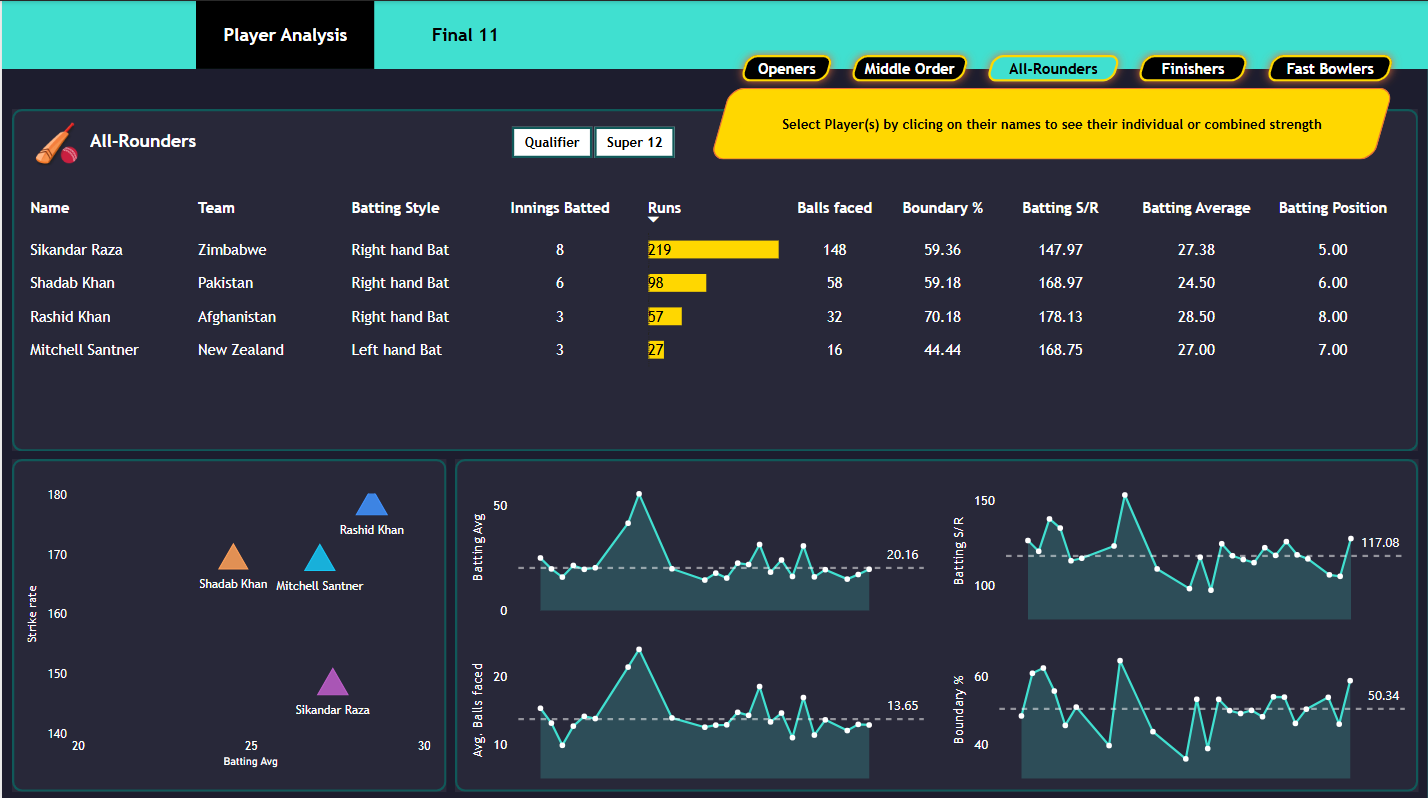

This screenshot's page, from the dashboard's own definition file:
{"tool":"powerbi","page":{"name":"All-Rounders/Lower Order","canvas":[1280,720],"ordinal":2},"visuals":[{"type":"shape","box":[0,61.3,1280,658.5],"z":0},{"type":"shape","box":[8.8,97.3,1262.5,307.4],"z":1000},{"type":"shape","box":[8.8,411.4,390,298.6],"z":2000},{"type":"shape","box":[635.4,78.3,613.7,64.2],"z":3000},{"type":"tableEx","fields":{"Values":["Players Data.name","Players Data.team","Players Data.battingStyle","Key_Measures.Total Innings Batted","Key_Measures.Total Runs","Key_Measures.total balls faced","Key_Measures.Boundary %","Key_Measures.Strike rate","Key_Measures.Batting Avg","Key_Measures.Batting Position"]},"box":[15.6,166.3,1248.9,234.4],"z":4000},{"type":"scatterChart","title":"Players by Batting Avg & Strike rate","fields":{"Category":["Players Data.name"],"X":["Key_Measures.Batting Avg"],"Y":["Key_Measures.Strike rate"],"Size":["Key_Measures.Batting Avg"]},"box":[17.5,428.9,371.6,263.6],"z":5000},{"type":"slicer","fields":{"Values":["Match Data.stage"]},"box":[431.9,106,196.5,37],"z":6000},{"type":"shape","box":[78.8,104.1,176,42.8],"z":7000},{"type":"card","fields":{"Values":["Key_Measures.Batting Avg"]},"box":[820.9,78.8,96.3,64.2],"z":8000},{"type":"card","fields":{"Values":["Key_Measures.Strike rate"]},"box":[917.2,78.8,112.8,64.2],"z":9000},{"type":"card","fields":{"Values":["Key_Measures.Boundary %"]},"box":[1130.2,78.8,93.4,64.2],"z":10000},{"type":"card","fields":{"Values":["Key_Measures.Avg. Balls faced"]},"box":[1030,78.8,100.2,64.2],"z":11000},{"type":"shape","box":[653.6,96.3,163.4,29.2],"z":12000},{"type":"shape","box":[406.6,411.4,864.7,298.6],"z":13000},{"type":"actionButton","box":[654.6,40.8,100.2,39.9],"z":14000},{"type":"actionButton","box":[753.3,40.8,123.5,39.9],"z":15000},{"type":"actionButton","box":[1011.1,40.8,116.7,39.9],"z":16000},{"type":"actionButton","box":[875.4,40.8,137.1,39.9],"z":17000},{"type":"actionButton","box":[1126.3,40.8,131.3,39.9],"z":18000},{"type":"areaChart","title":"Daily Batting Average","fields":{"Y":["Key_Measures.Batting Avg"],"Category":["Match Data.matchDate.Variation.Date Hierarchy.Day"]},"box":[416.3,419.2,416.3,141],"z":19000},{"type":"areaChart","title":"Batting Strike Rate","fields":{"Y":["Key_Measures.Strike rate"],"Category":["Match Data.matchDate.Variation.Date Hierarchy.Day"]},"box":[848.1,419.2,416.3,141],"z":20000},{"type":"areaChart","title":"Boundary %","fields":{"Y":["Key_Measures.Boundary %"],"Category":["Match Data.matchDate.Variation.Date Hierarchy.Day"]},"box":[848.1,562.2,416.3,141],"z":21000},{"type":"areaChart","title":"Average Balls Faced","fields":{"Y":["Key_Measures.Avg. Balls faced"],"Category":["Match Data.matchDate.Variation.Date Hierarchy.Day"]},"box":[416.3,562.2,416.3,141],"z":22000},{"type":"image","box":[18.5,100.2,53.5,55.4],"z":23000},{"type":"actionButton","box":[174.1,0,160.5,61.3],"z":24000},{"type":"actionButton","box":[335.6,0,160.5,61.3],"z":25000},{"type":"shape","box":[673.8,95.8,536.9,29.2],"z":26000},{"type":"image","box":[45.7,125.5,28.2,25.3],"z":27000}]}

Visuals, with their boxes in screenshot pixels (x1, y1, x2, y2), scaled from the page's 1280x720 canvas onto the 1428x798 screenshot:
shape: 0,68,1427,797
shape: 10,108,1418,449
shape: 10,456,445,787
shape: 709,87,1394,158
tableEx - Players Data.name x Players Data.team: 17,184,1411,444
"Players by Batting Avg & Strike rate" scatterChart: 20,475,434,768
slicer - Match Data.stage: 482,117,701,158
shape: 88,115,284,163
card - Key_Measures.Batting Avg: 916,87,1023,158
card - Key_Measures.Strike rate: 1023,87,1149,158
card - Key_Measures.Boundary %: 1261,87,1365,158
card - Key_Measures.Avg. Balls faced: 1149,87,1261,158
shape: 729,107,911,139
shape: 454,456,1418,787
actionButton: 730,45,842,89
actionButton: 840,45,978,89
actionButton: 1128,45,1258,89
actionButton: 977,45,1130,89
actionButton: 1257,45,1403,89
"Daily Batting Average" areaChart: 464,465,929,621
"Batting Strike Rate" areaChart: 946,465,1411,621
"Boundary %" areaChart: 946,623,1411,779
"Average Balls Faced" areaChart: 464,623,929,779
image: 21,111,80,172
actionButton: 194,0,373,68
actionButton: 374,0,553,68
shape: 752,106,1351,139
image: 51,139,82,167
